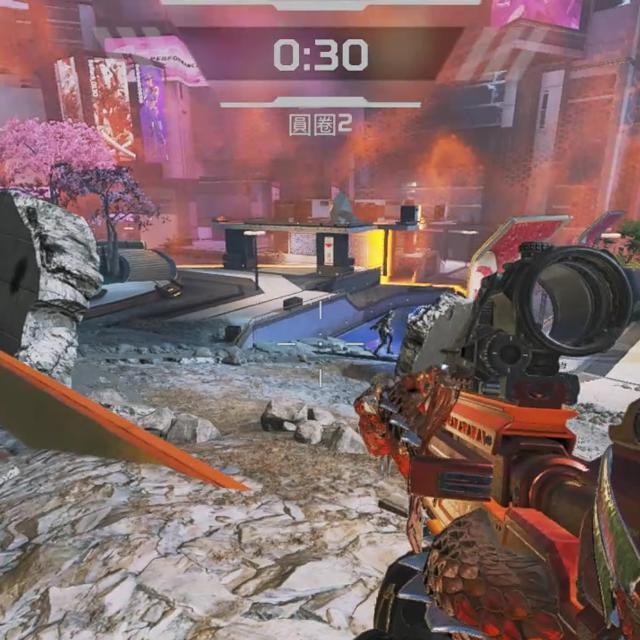avatar: (371, 307, 397, 358)
